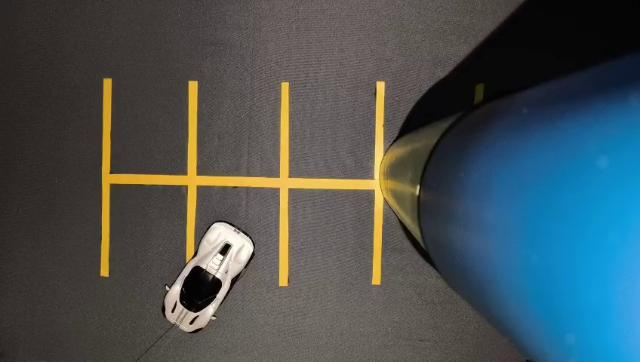toy_car: (141, 202, 269, 345)
